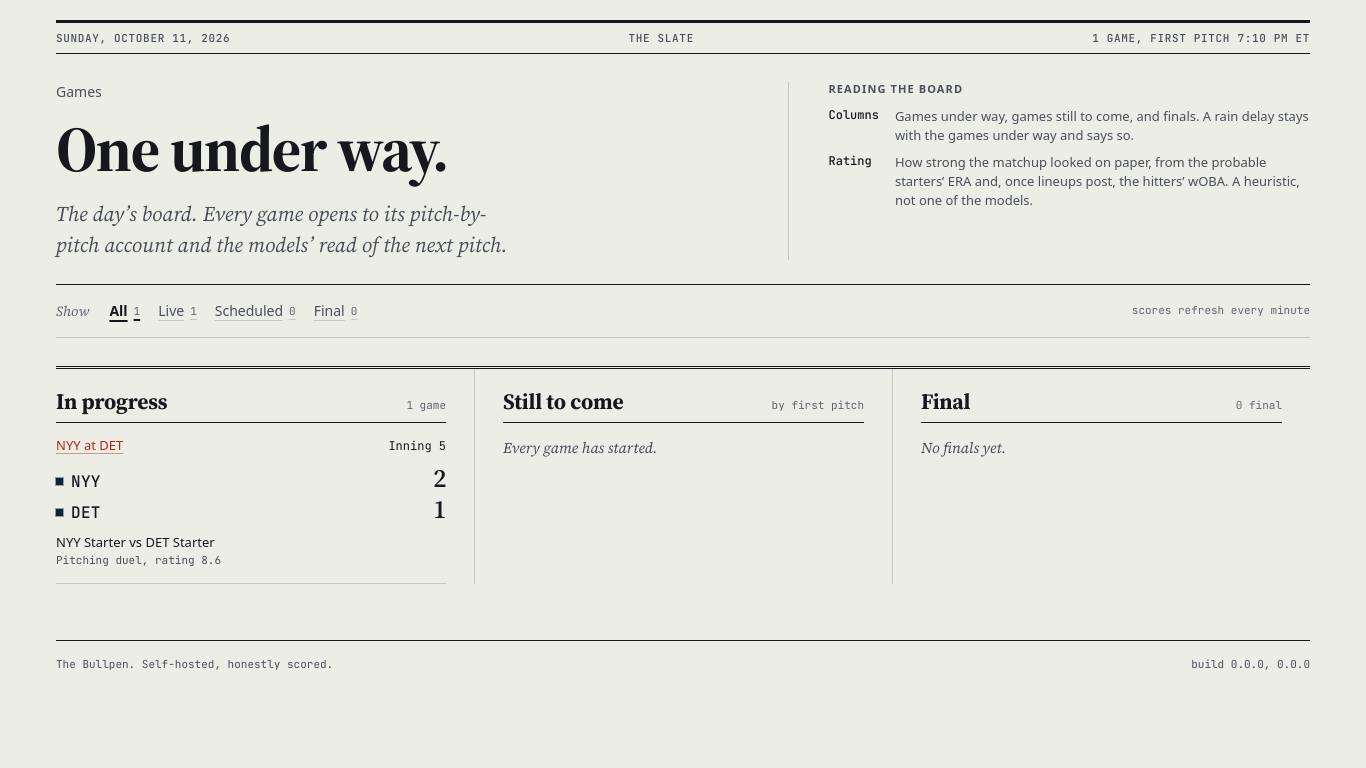
GamesPage postures › filters to one status, says when nothing matches, and resets
Click the button "Final 0": click(336, 311) [314,289,357,333]
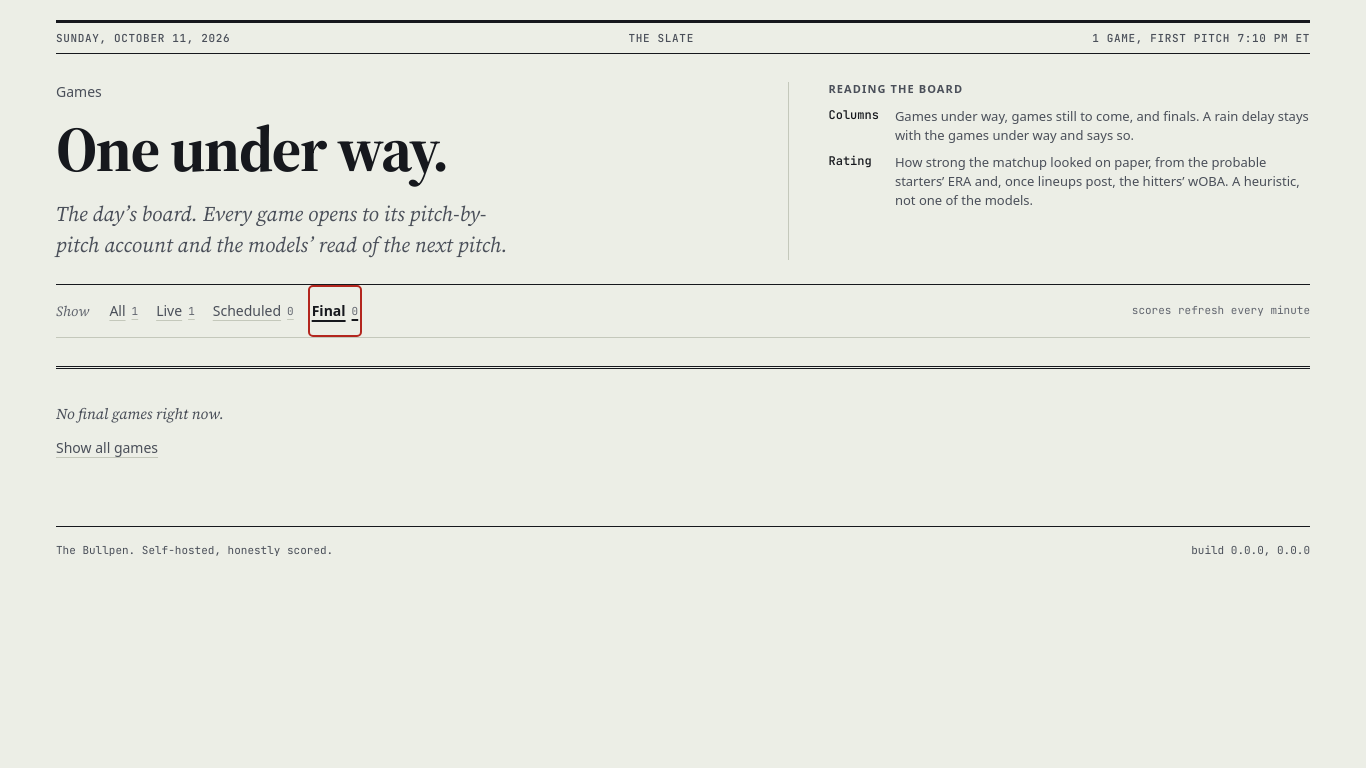
Now the text "No final games right now." is shown, box [56,403,224,424]
Click the button "Show all games": click(107, 448) [56,426,158,470]
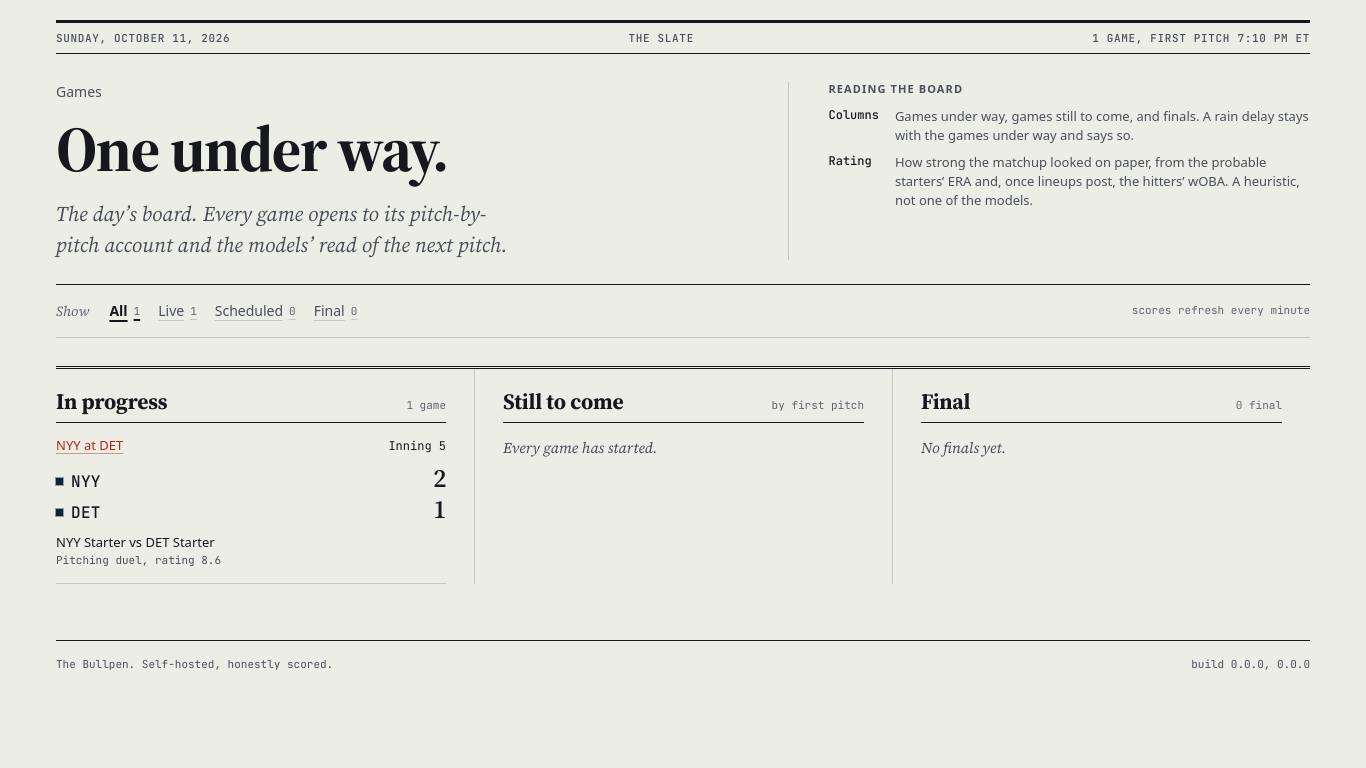
Now the link with aria-label "Open game for NYY at DET" is shown, box [56,437,123,454]
